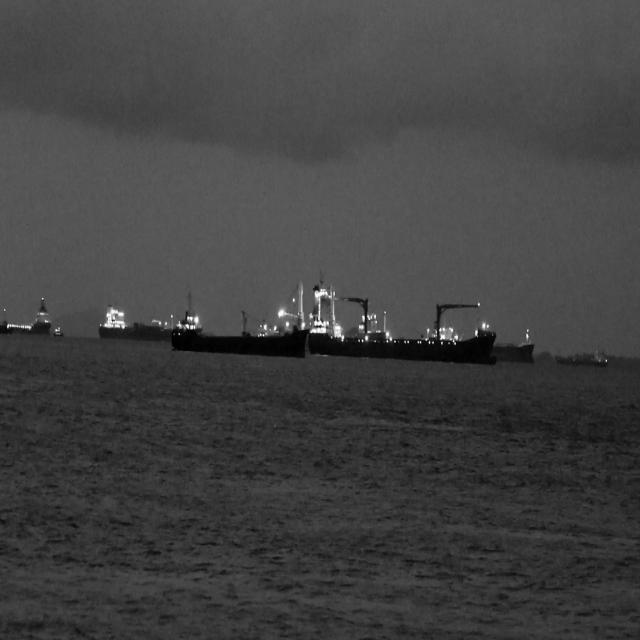ship: (306, 280, 496, 364), (170, 278, 307, 356), (97, 300, 170, 340), (1, 292, 51, 336), (554, 338, 610, 368), (492, 325, 534, 364), (51, 324, 64, 341)
